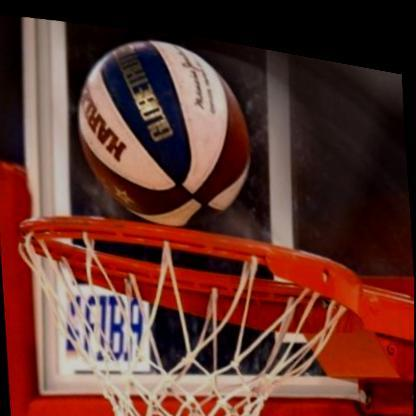basketball: (73, 17, 258, 241)
